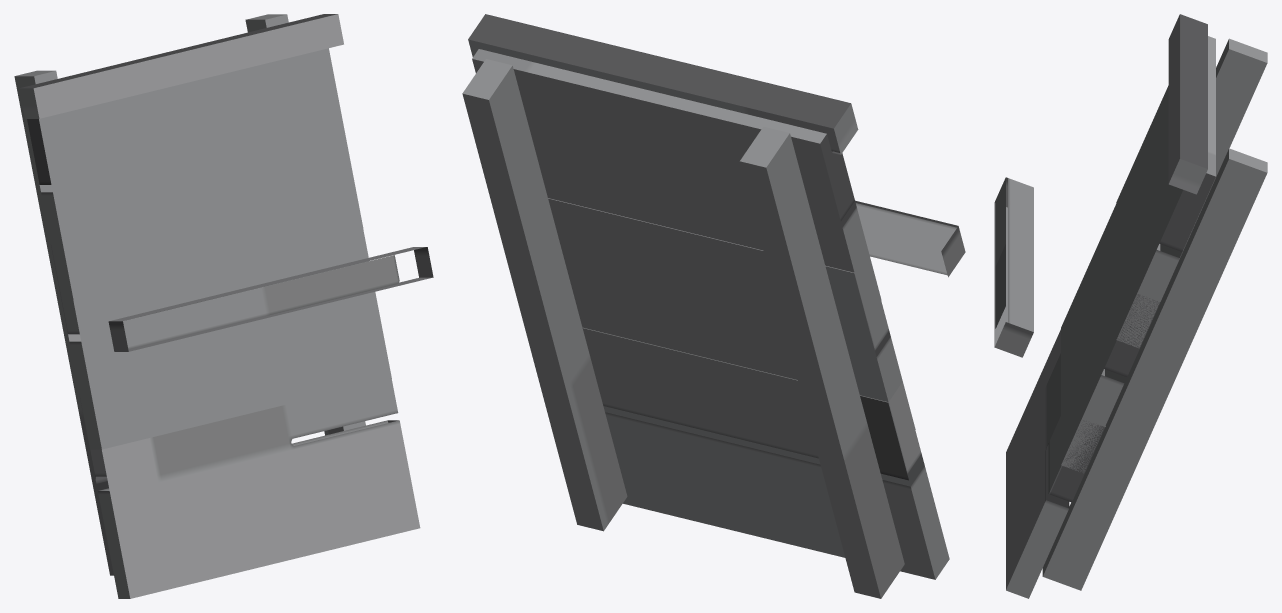
The picture shows the model from 3 angles, left to right: view 1: azimuth 30°, elevation 25°; view 2: azimuth 150°, elevation 25°; view 3: azimuth 270°, elevation 25°; orthographic projection. The views are drawn at different scales.
Bounding box in the file's own units: 0.5704 × 0.8161 × 0.4546.
